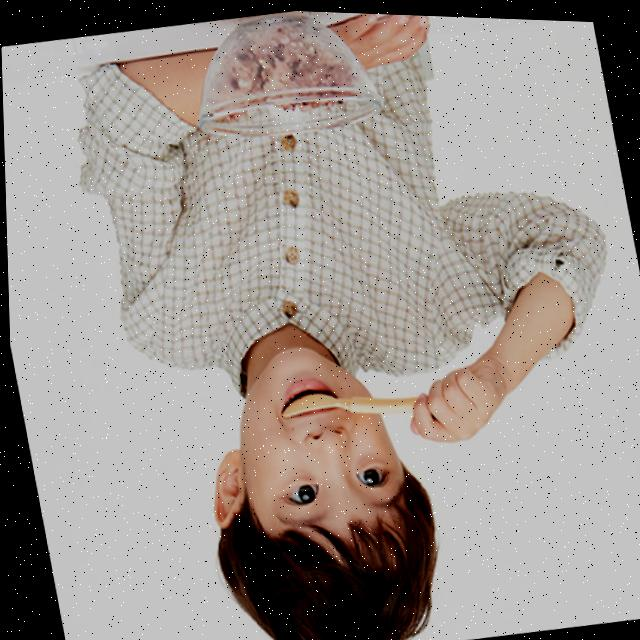eating-person: (41, 1, 640, 640)
